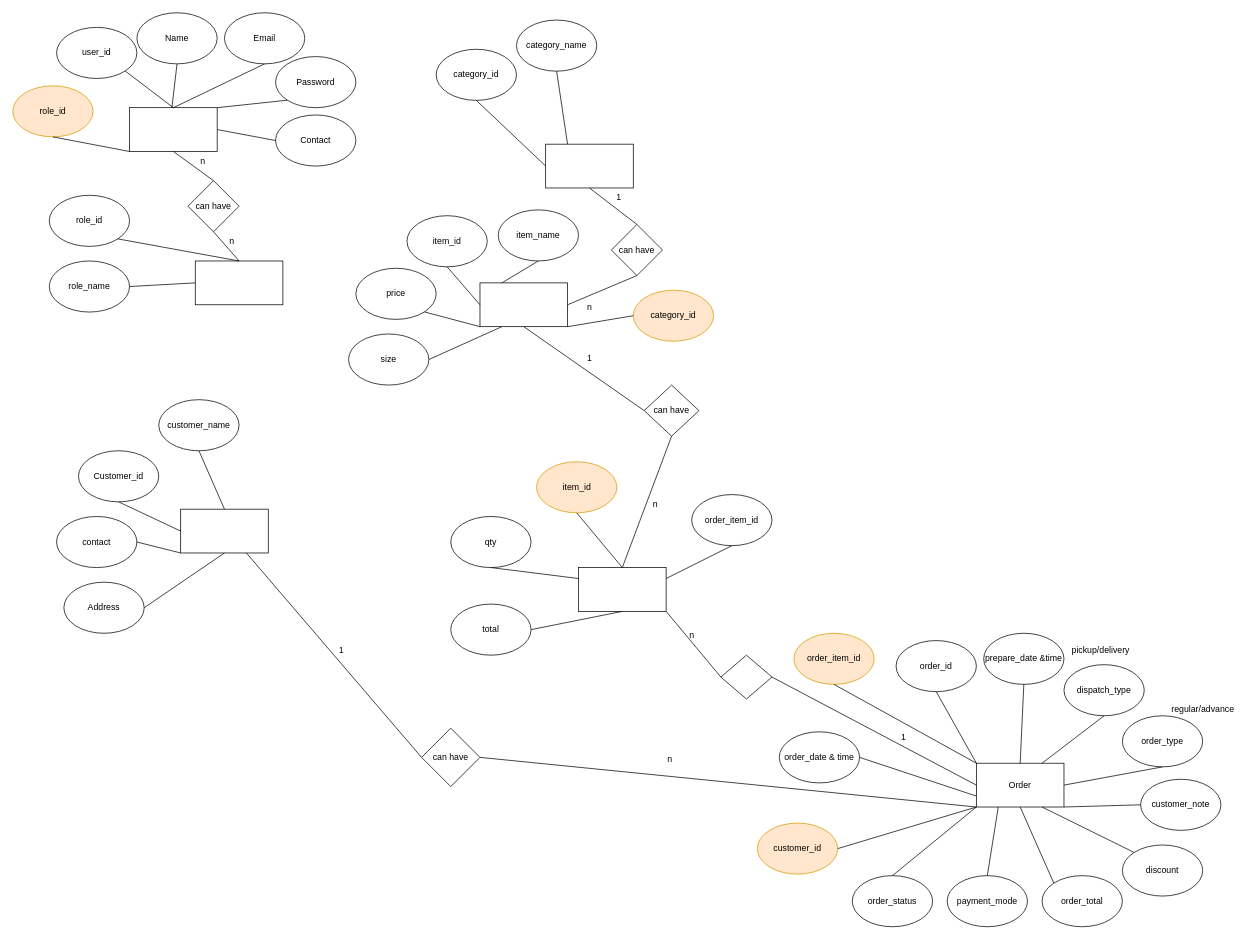
The diagram is 1256 pixels wide and 940 high, and some of its shapes have lost their labels. Each missing label, with the centre of its shape:
"Category" goes at point (589, 165).
"Customer" goes at point (224, 530).
"has" goes at point (746, 676).
"Item" goes at point (523, 304).
"Order_item" goes at point (622, 589).
"Role" goes at point (239, 282).
"User" goes at point (173, 129).
